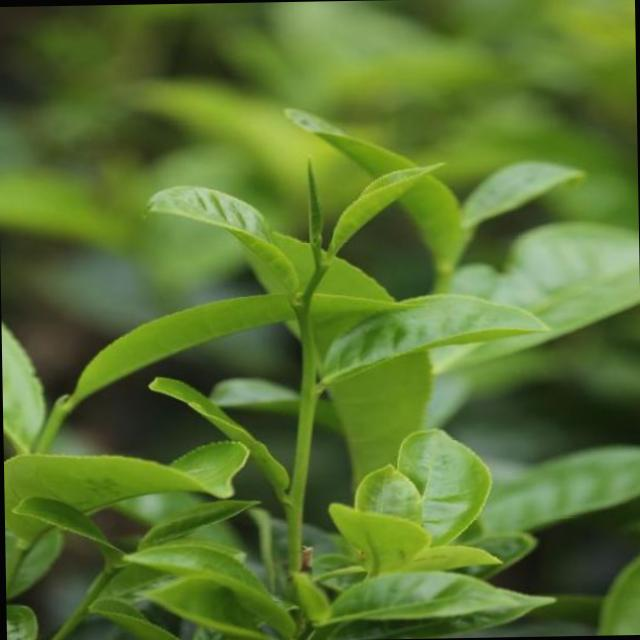Stem: (291, 298, 308, 308)
